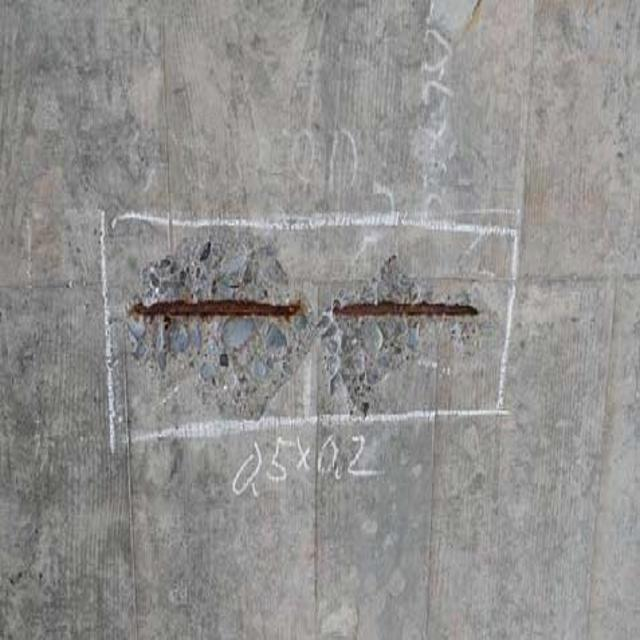spalling: (101, 210, 496, 413)
